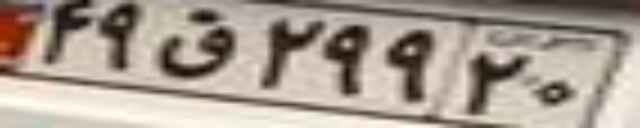0: (531, 79, 577, 105)
2: (264, 16, 321, 91), (463, 51, 526, 116)
4: (45, 1, 90, 66)
9: (381, 27, 432, 102), (323, 21, 371, 97), (100, 2, 142, 70)
ghaf: (158, 9, 241, 79)
